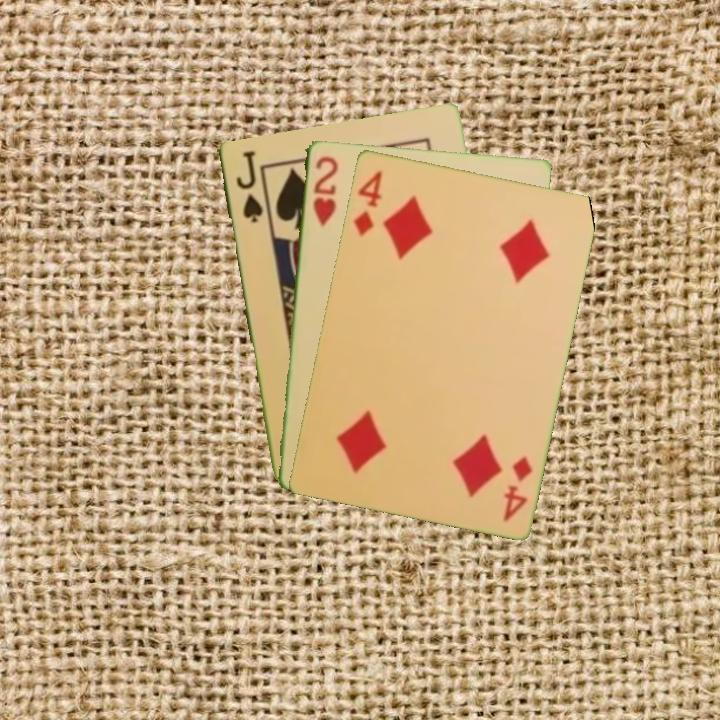2h: (309, 152, 341, 229)
4d: (349, 166, 385, 239), (499, 452, 535, 524)
Js: (232, 147, 265, 225)
